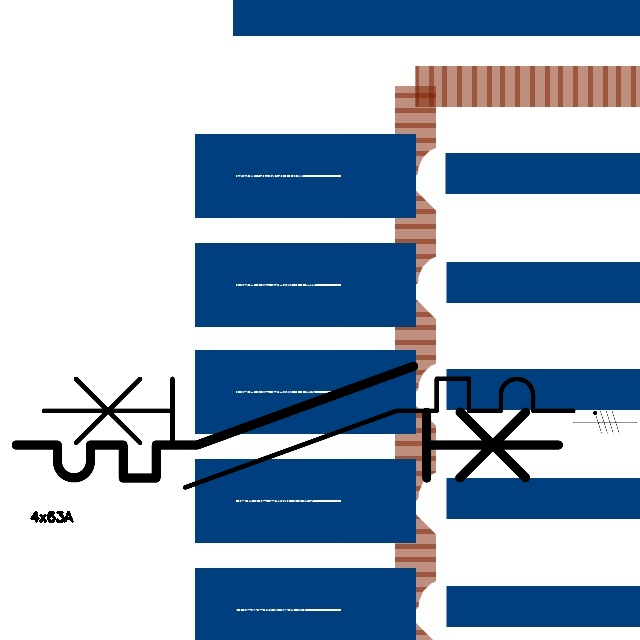interruptor_termomagnetico: (2, 352, 573, 492), (30, 365, 587, 501)
